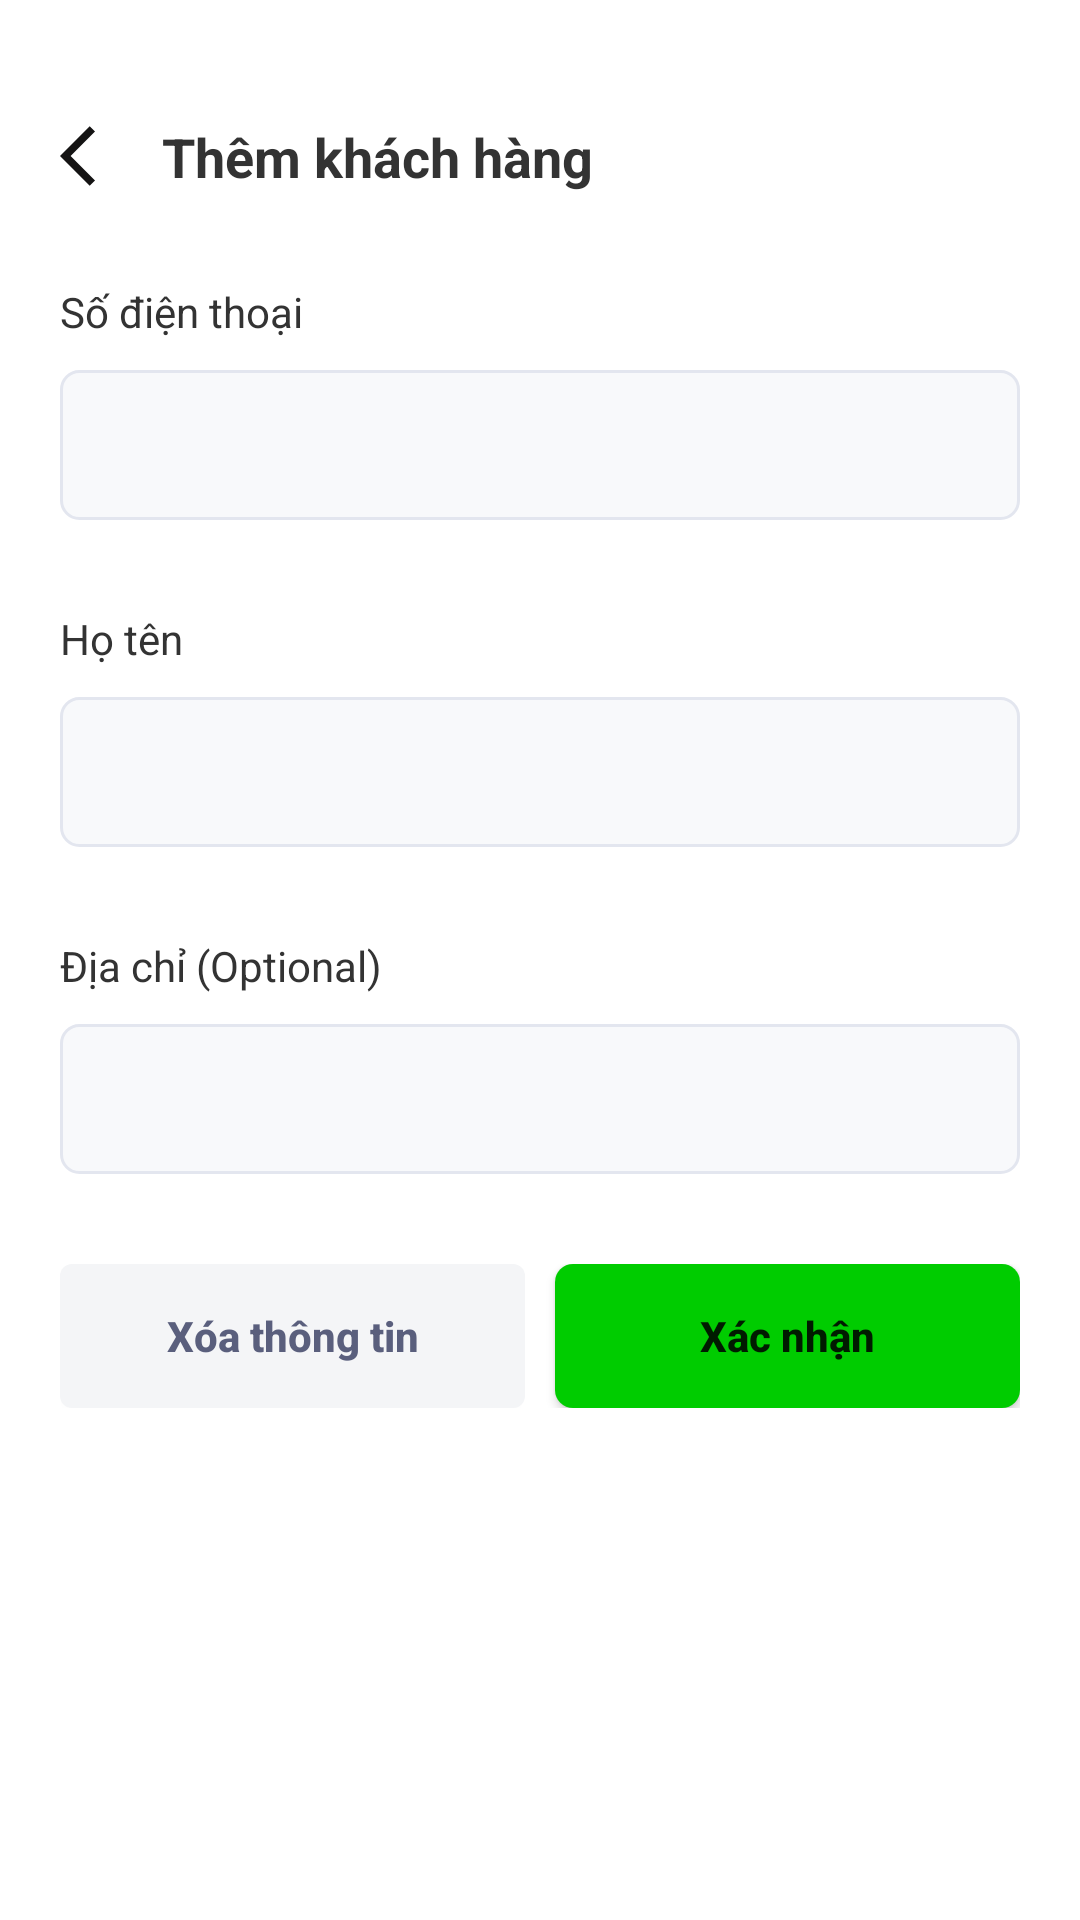

Named icons in this screenshot (1080px x 1920px) and their bounding boxes, bbox=(x1, y1, x2, y2):
back: bbox=(60, 126, 95, 186)
